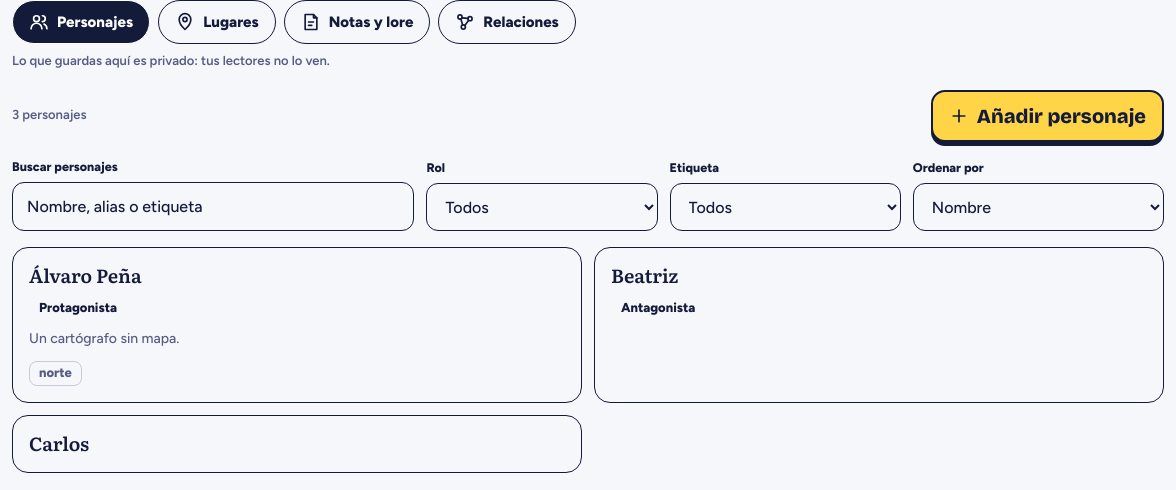
Test: Universe · characters › lists the characters and searches ignoring case and accents
The image size is (1176, 490).
Check: the text "Álvaro Peña" is shown, box 29,262 -> 142,290
Check: the text "Beatriz" is shown, box 611,262 -> 678,290
In the search field labelled "Buscar personajes": (213, 207) 12,182 -> 414,232, type "ALVARO pena"
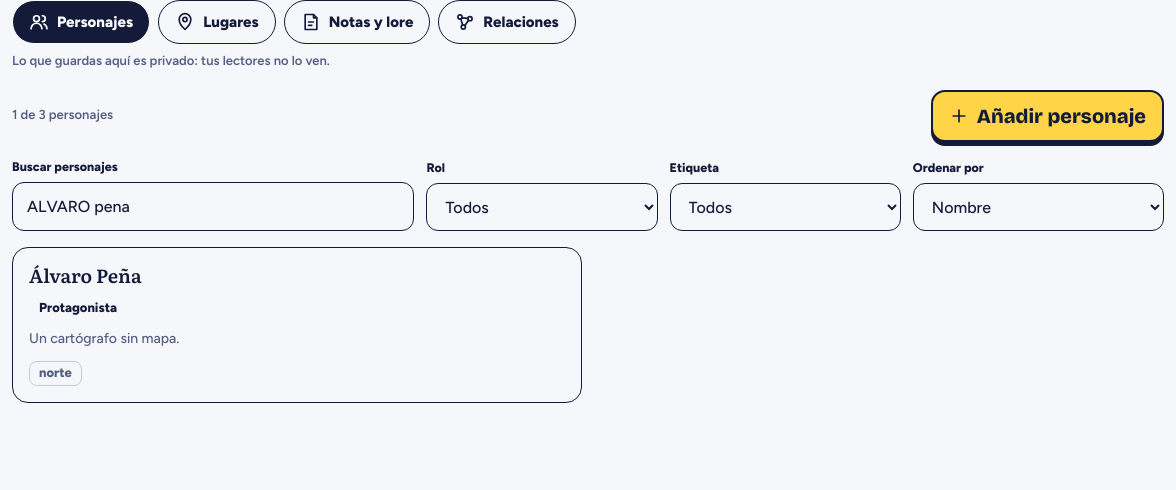
Check: the button "Beatriz" is gone
Check: the button "Carlos" is gone
Check: the text "1 de 3 personajes" is shown, box 12,106 -> 113,126
Replace the text in the search field labelled "Buscar personajes" with "nadie": (213, 207) 12,182 -> 414,232
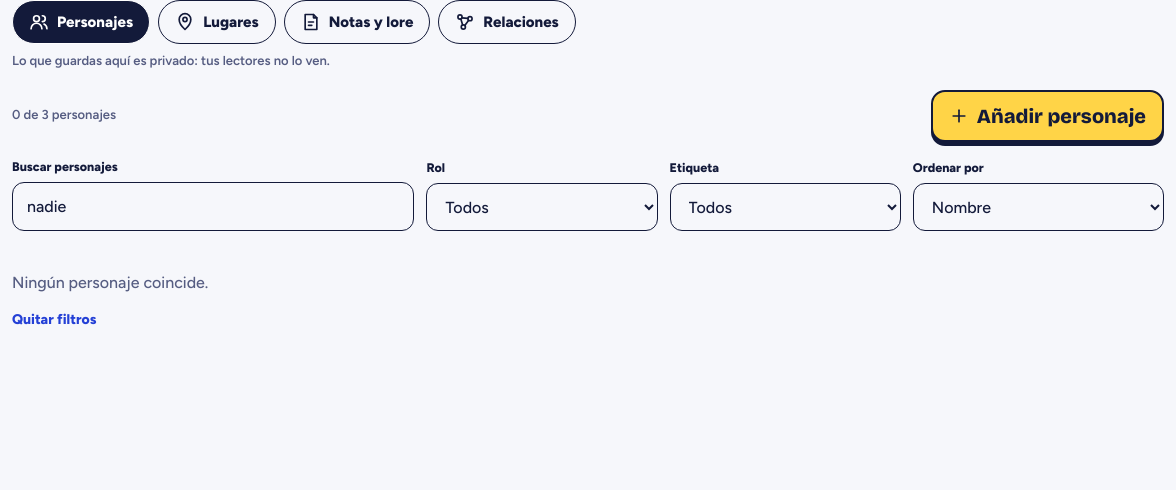
Check: the text "Ningún personaje coincide." is shown, box 12,272 -> 208,295
